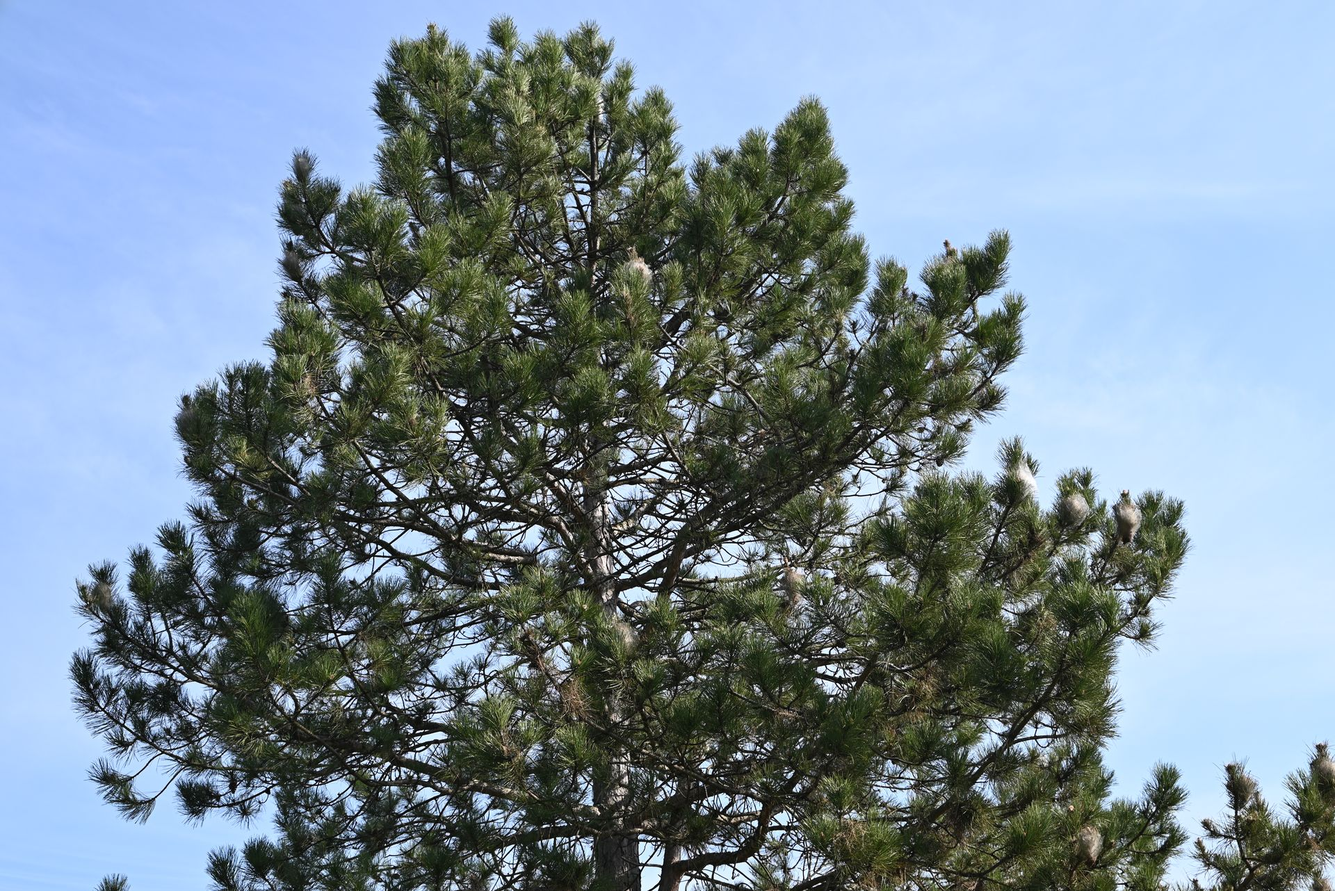thaumatopoea pityocampa jajno gnijezdo: (995, 452, 1040, 502), (1059, 485, 1097, 533), (1116, 492, 1145, 545), (621, 251, 656, 294), (1305, 747, 1335, 789), (1079, 821, 1108, 864), (781, 563, 810, 606)
